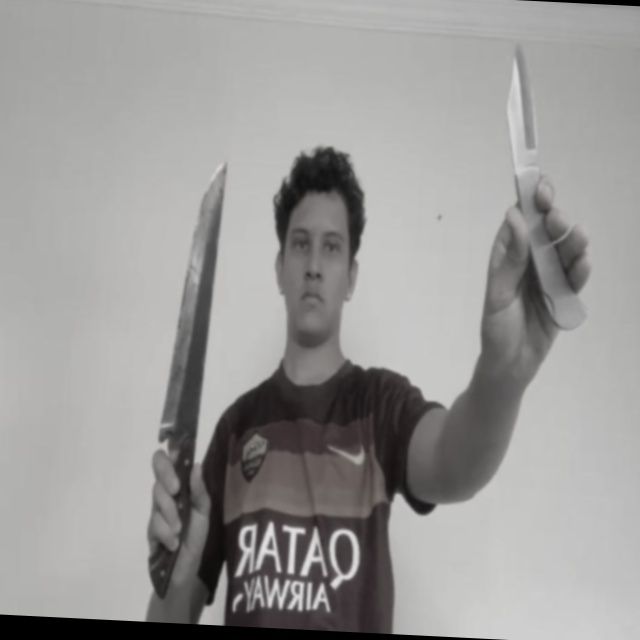Sharp-Object: (157, 157, 229, 452), (502, 43, 544, 173)
